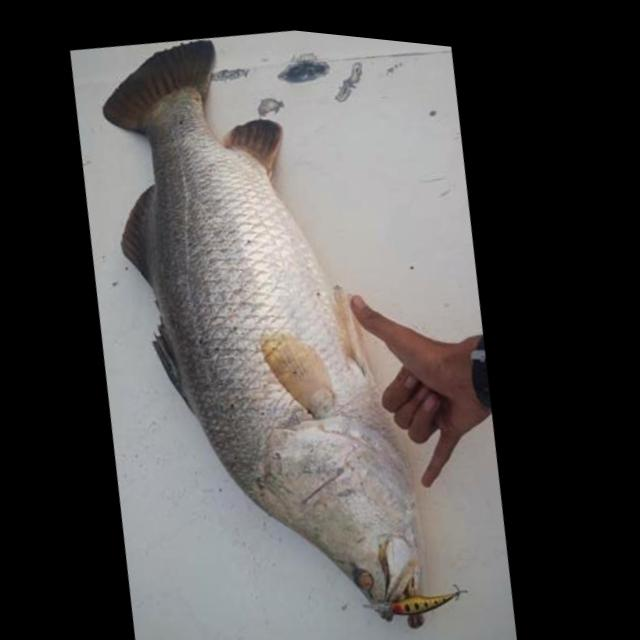Seabass: (45, 10, 477, 640)
